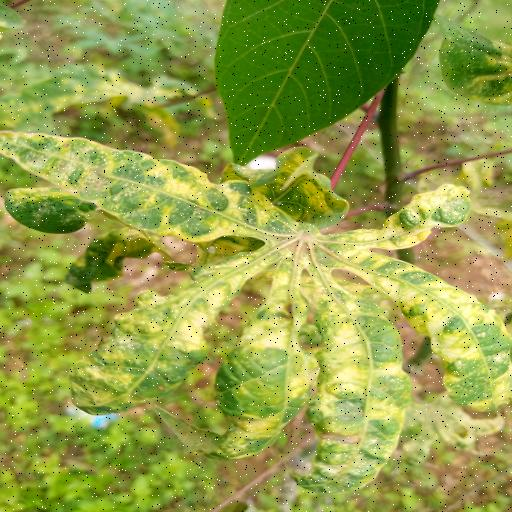Cassava_Mosaic: (0, 123, 512, 494)
